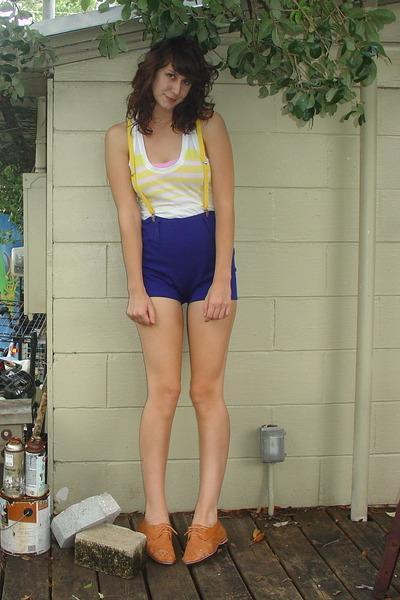shirt: (126, 126, 223, 219)
shoe: (138, 509, 229, 562)
shorts: (141, 210, 236, 305)
